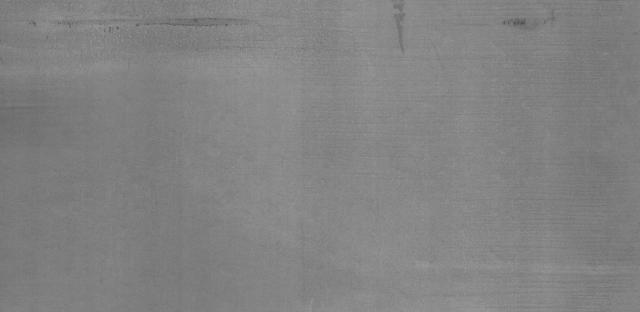inclusion: (23, 10, 251, 37), (498, 12, 536, 30)
water_spot: (387, 4, 409, 54)
